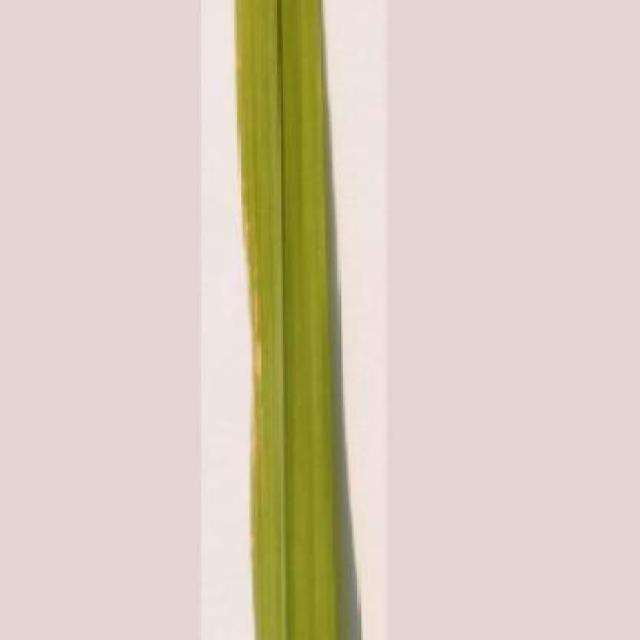Brown_Spot: (227, 0, 342, 640)
